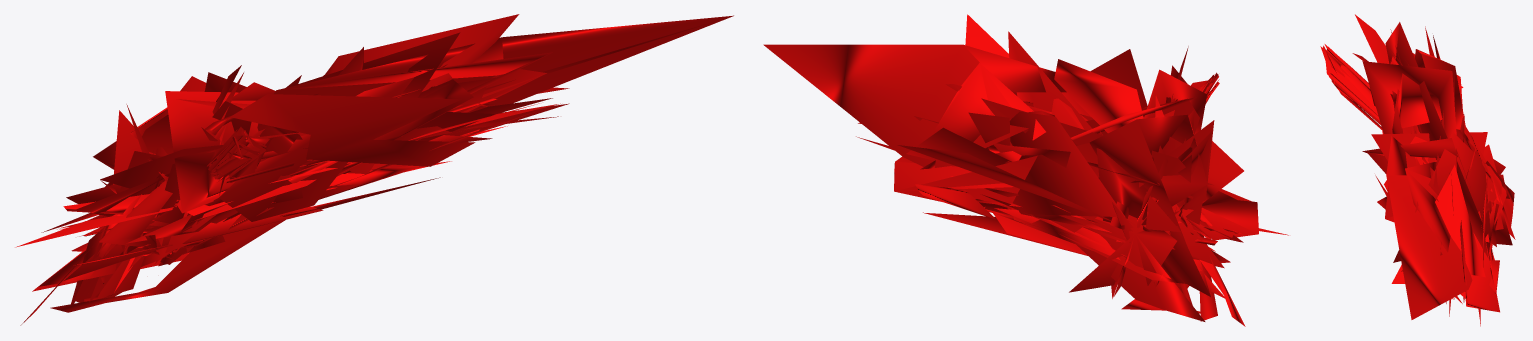
3 renders of one model, left to right at view 1: azimuth 30°, elevation 25°; view 2: azimuth 150°, elevation 25°; view 3: azimuth 270°, elevation 25°, orthographic. The views are drawn at different scales.
Parts seen in each view (by area): view 1: Renderer Node; view 2: Renderer Node; view 3: Renderer Node.
Part boxes in pixels (x1,y1,x2,y2): Renderer Node: (15,14,733,325); Renderer Node: (763,14,1288,326); Renderer Node: (1320,14,1515,326).
Bounding box in the file's own units: 0.6968 × 0.2727 × 0.1991.
Materials: 1 (1 with a texture image).
